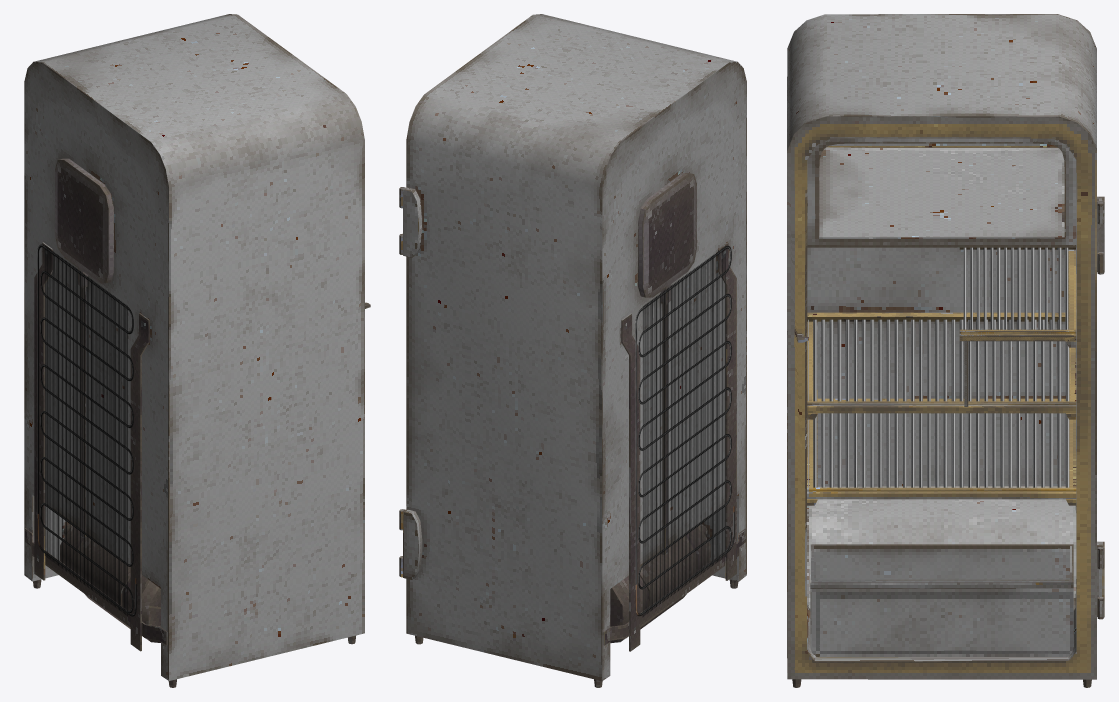
Rendered from Fridge.glb.
The picture shows the model from 3 angles, left to right: view 1: azimuth 30°, elevation 25°; view 2: azimuth 150°, elevation 25°; view 3: azimuth 270°, elevation 25°; orthographic projection. The views are drawn at different scales.
Visible parts, largest first — view 1: Fridge; view 2: Fridge; view 3: Fridge.
Part boxes in pixels (bbox=[...]): Fridge: bbox=[24, 14, 370, 687]; Fridge: bbox=[399, 14, 746, 687]; Fridge: bbox=[787, 14, 1104, 687].
Bounding box in the file's own units: 0.7748 × 1.83 × 0.9202.
Materials: 4 (4 with a texture image).
